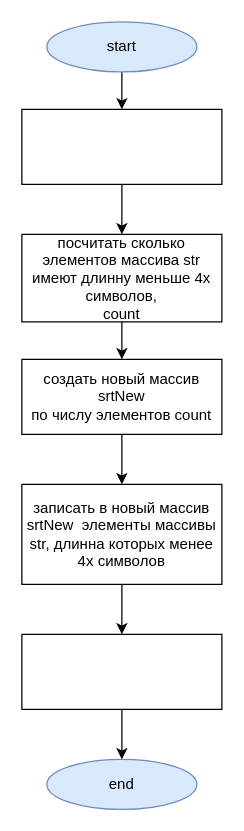
Image size: 244x831. Some labels were removed from this diagram. The shapes that lost their labels are listed below. From the top down, each one's box as (x1, y1, x2, y2) in pixels, then its label:
(21, 108, 222, 184): Задать массив строк str
(21, 633, 222, 709): вывести массив srtNew на экран
